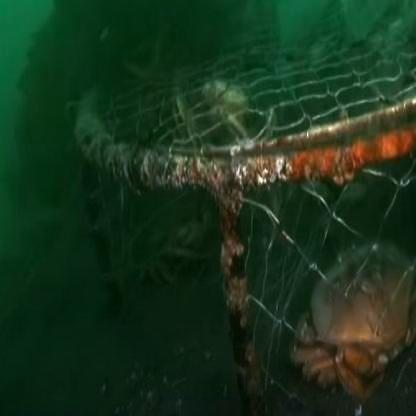net: (85, 78, 391, 231)
